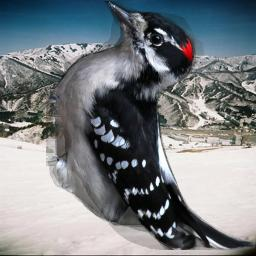Woodpecker: (46, 1, 255, 250)
